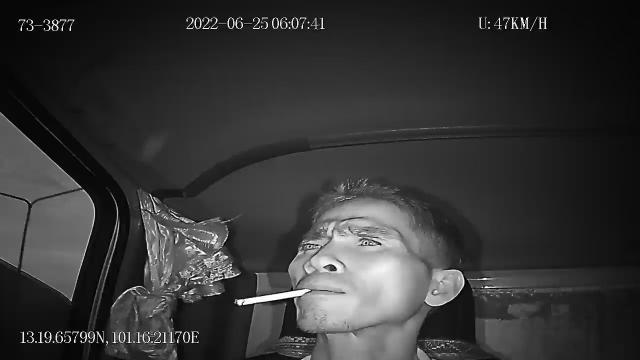SafeDriving: (342, 226, 388, 252)
Smoking: (233, 288, 315, 306)
